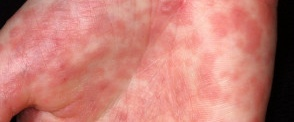SJS-TEN: (0, 0, 270, 122)
